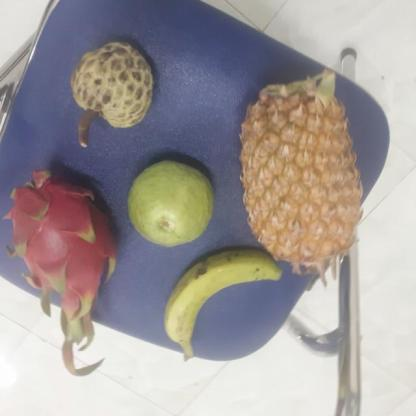annona: (71, 41, 160, 130)
banana: (164, 246, 288, 358)
guava: (127, 160, 220, 246)
pineapple: (238, 78, 374, 264)
pitaya: (11, 169, 123, 308)
